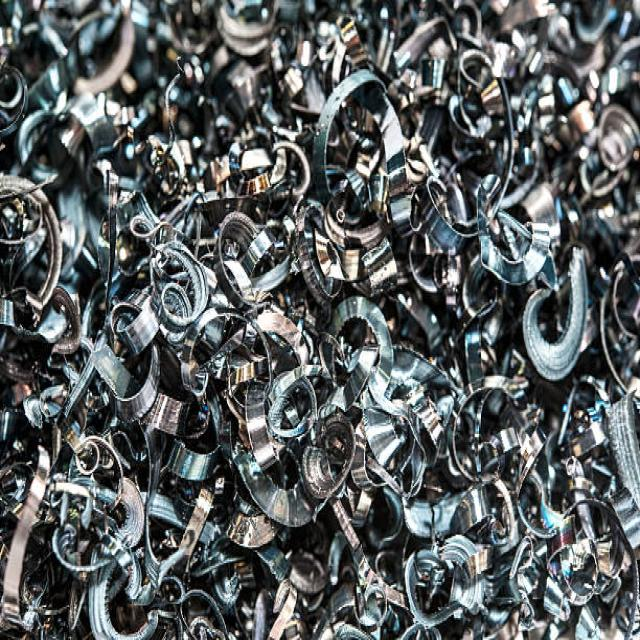metal: (364, 62, 614, 364), (40, 83, 288, 288), (176, 327, 352, 511)
